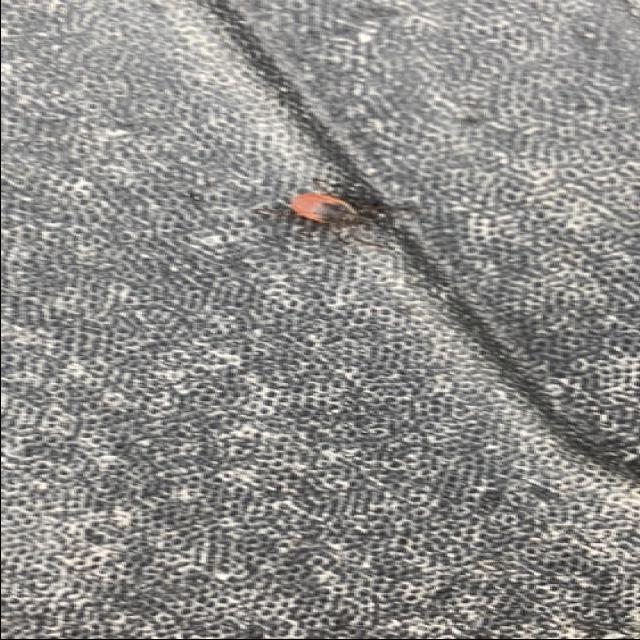Ixodes Ricinus-F: (282, 187, 369, 234)
